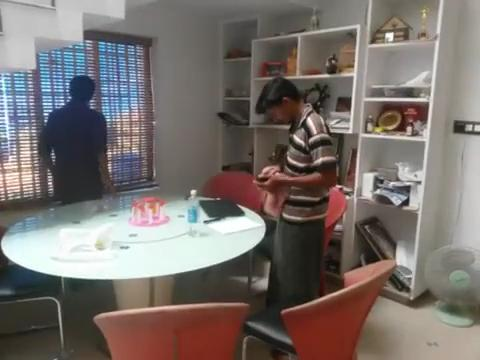chair: (241, 259, 397, 359), (247, 185, 347, 296), (92, 302, 249, 359), (1, 226, 66, 359), (202, 170, 263, 293)
closet_cabinet: (218, 1, 465, 300)
cup_glass_bottle: (128, 196, 170, 227)
floor: (1, 255, 480, 360), (1, 1, 125, 69)
paper_notebook: (198, 200, 263, 235)
person: (252, 77, 337, 310), (40, 75, 117, 205)
table_desk: (1, 195, 266, 309)
towel_s: (259, 164, 291, 217)
window: (1, 38, 153, 202)
